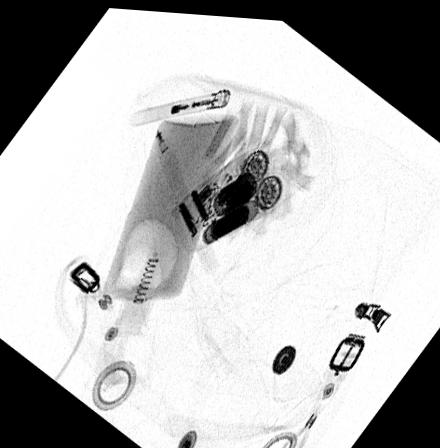Lighter: (129, 85, 231, 125)
